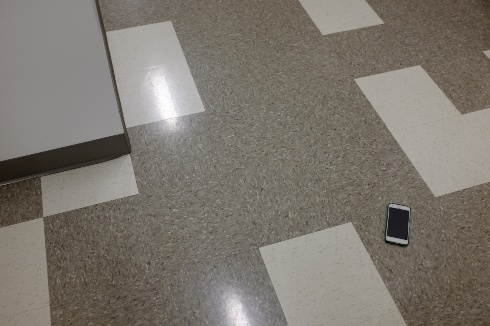phone: (375, 210, 424, 242)
